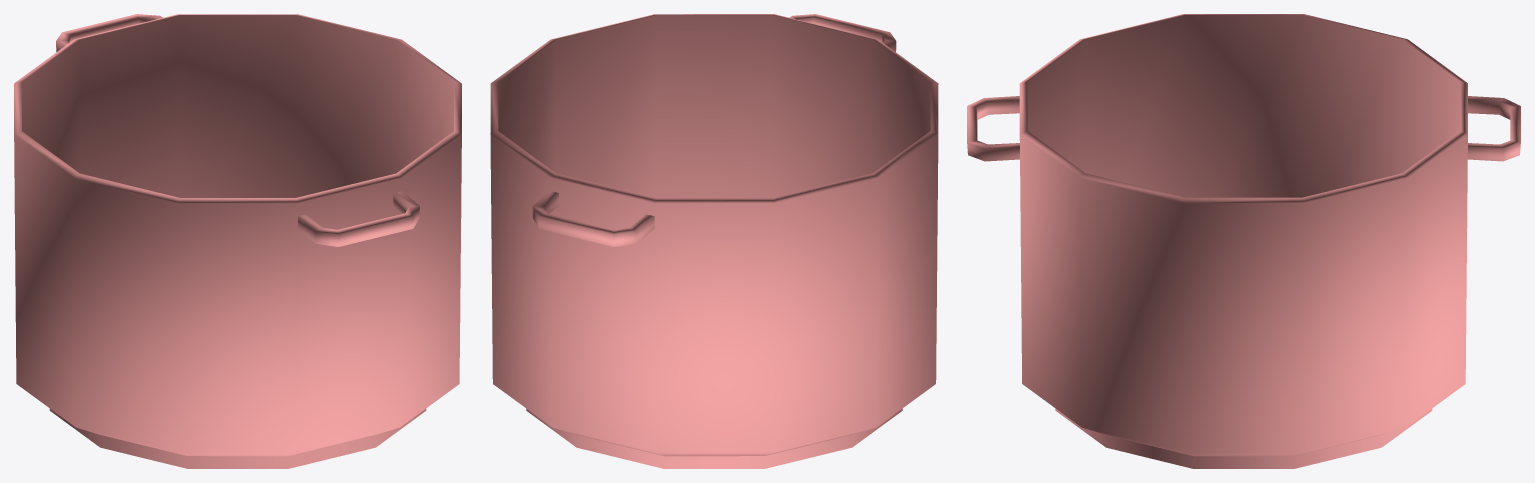
Rendered from TFYK_saucepan_big.FBX.
3 views of the same model, side by side, from view 1: azimuth 30°, elevation 25°; view 2: azimuth 150°, elevation 25°; view 3: azimuth 270°, elevation 25° (orthographic).
Visible parts, largest first — view 1: TFYK_saucepan_big; view 2: TFYK_saucepan_big; view 3: TFYK_saucepan_big.
Boxes of the visible parts, left/top/right/bottom form: TFYK_saucepan_big: left=14, top=14, right=461, bottom=468; TFYK_saucepan_big: left=490, top=14, right=938, bottom=468; TFYK_saucepan_big: left=967, top=14, right=1520, bottom=468.
Size of the model in its own units: 0.2474 by 0.1724 by 0.3058.
